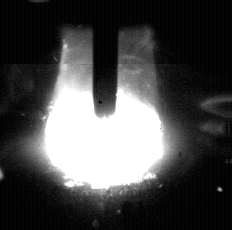arame: (94, 0, 119, 118)
poca: (44, 0, 163, 230)
